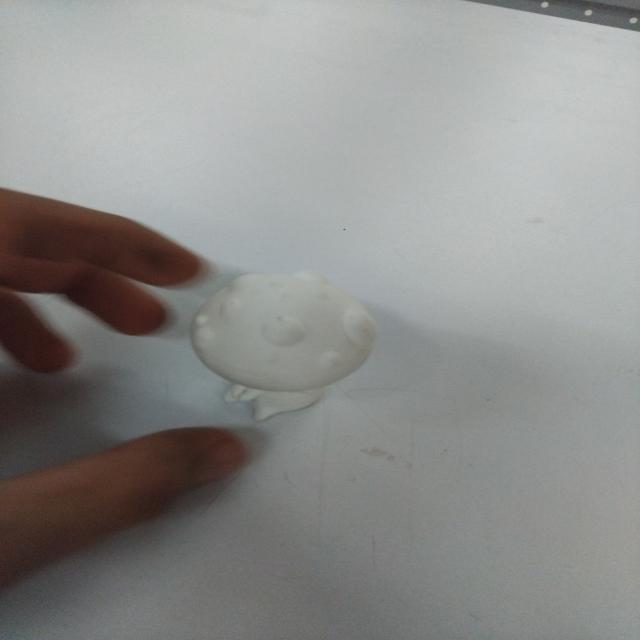Hongo: (179, 268, 384, 431)
